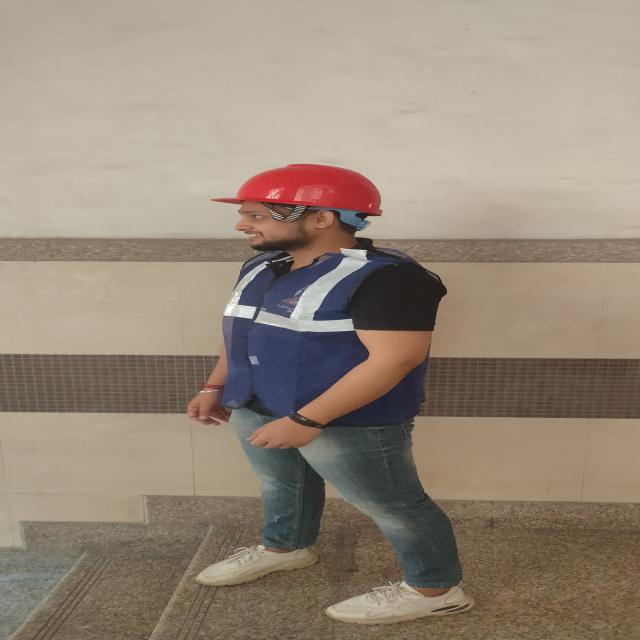safe: (187, 164, 475, 624)
